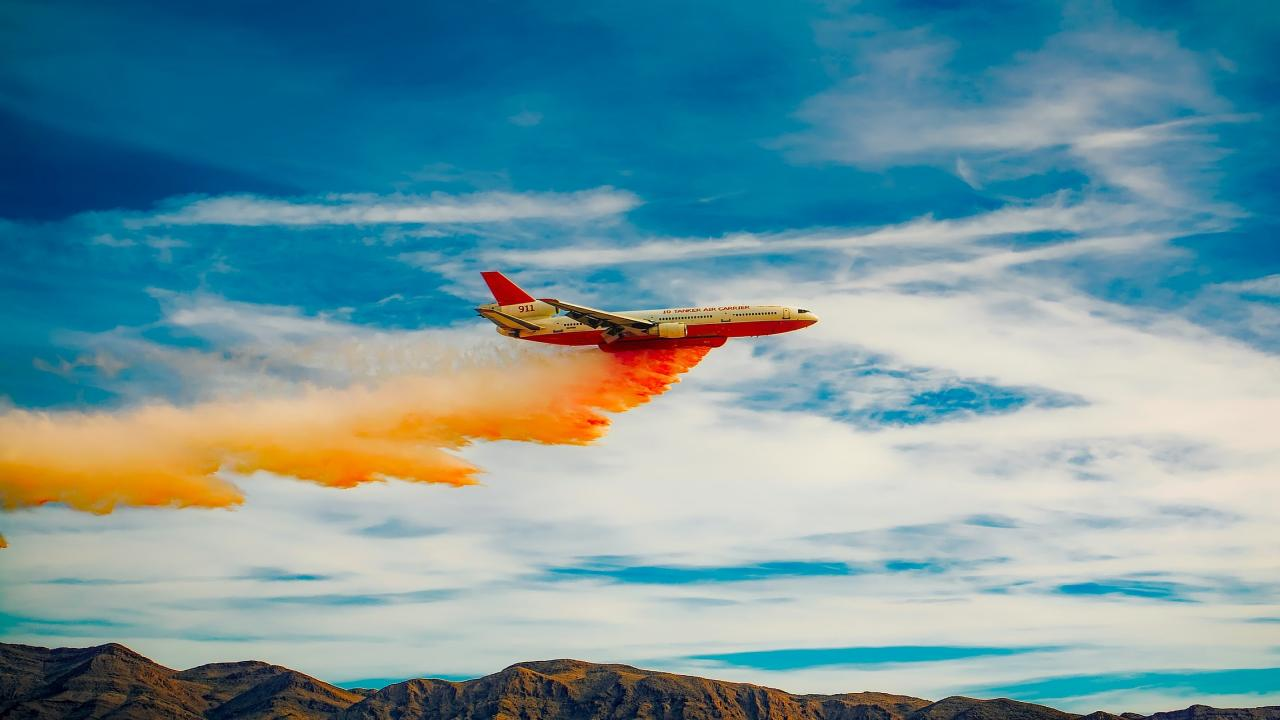Airplane: (463, 262, 830, 360)
